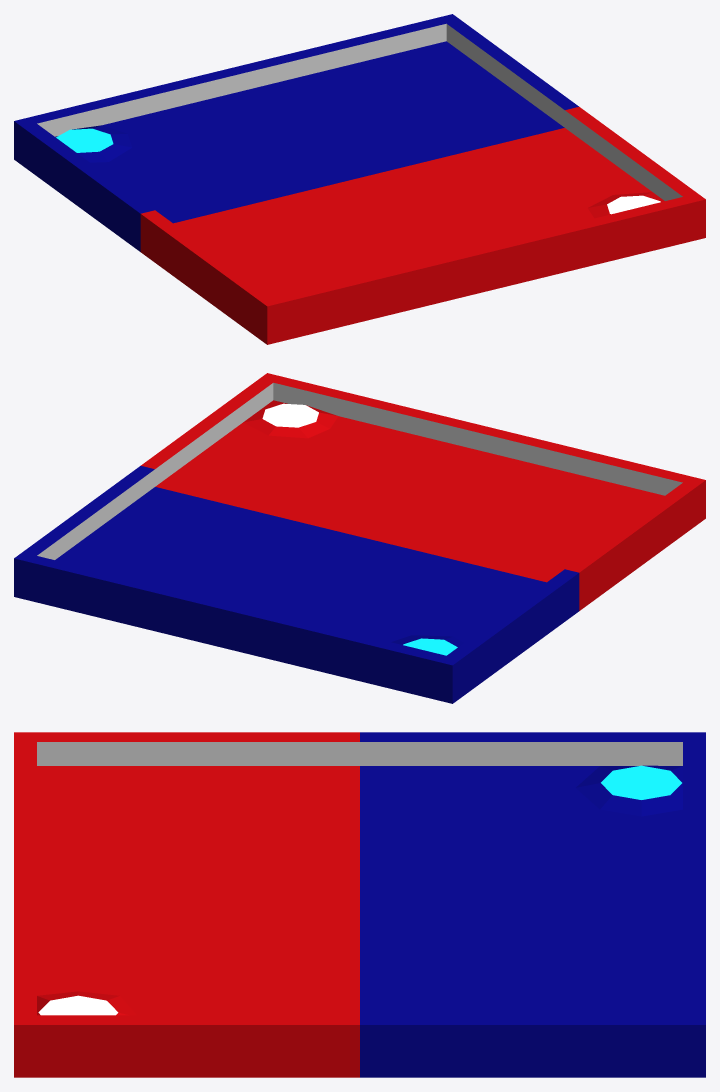
The model's file is floor.fbx.
The picture shows the model from 3 angles, top to bottom: view 1: azimuth 30°, elevation 25°; view 2: azimuth 150°, elevation 25°; view 3: azimuth 270°, elevation 25°; orthographic projection. The views are drawn at different scales.
Parts seen in each view (by area): view 1: Cube; view 2: Cube; view 3: Cube.
Boxes of the visible parts, x1,y1,x2,y2 form: Cube: (14,14,705,344); Cube: (14,373,705,703); Cube: (14,732,705,1077).
Bounding box in the file's own units: 800 × 67.11 × 800.
